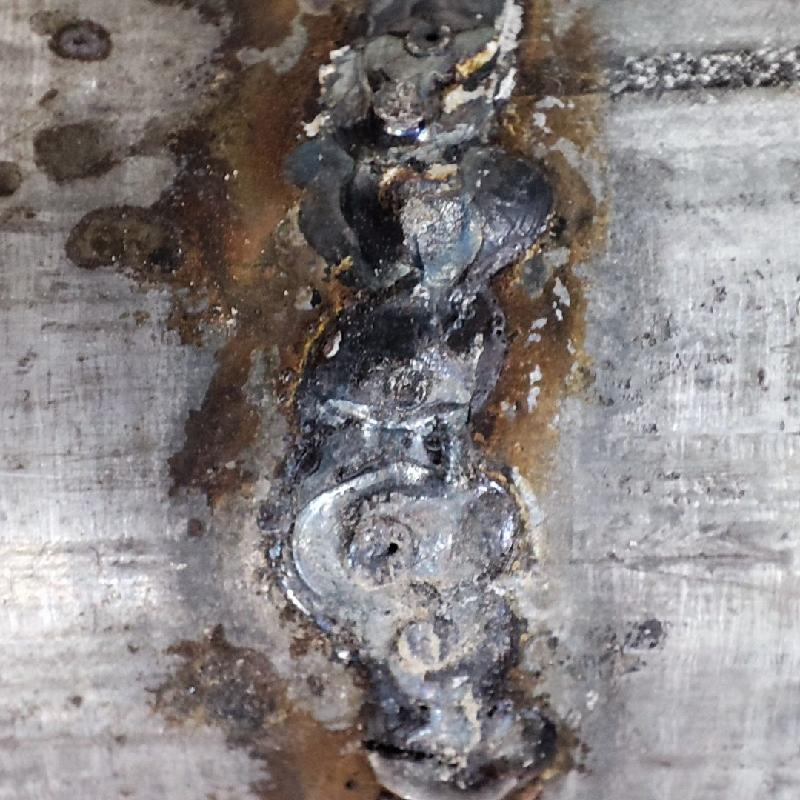Not_fully_soldered: (298, 480, 533, 788)
Surface_pores: (357, 525, 421, 575), (397, 17, 462, 55)
wrong_size: (287, 2, 558, 472)
